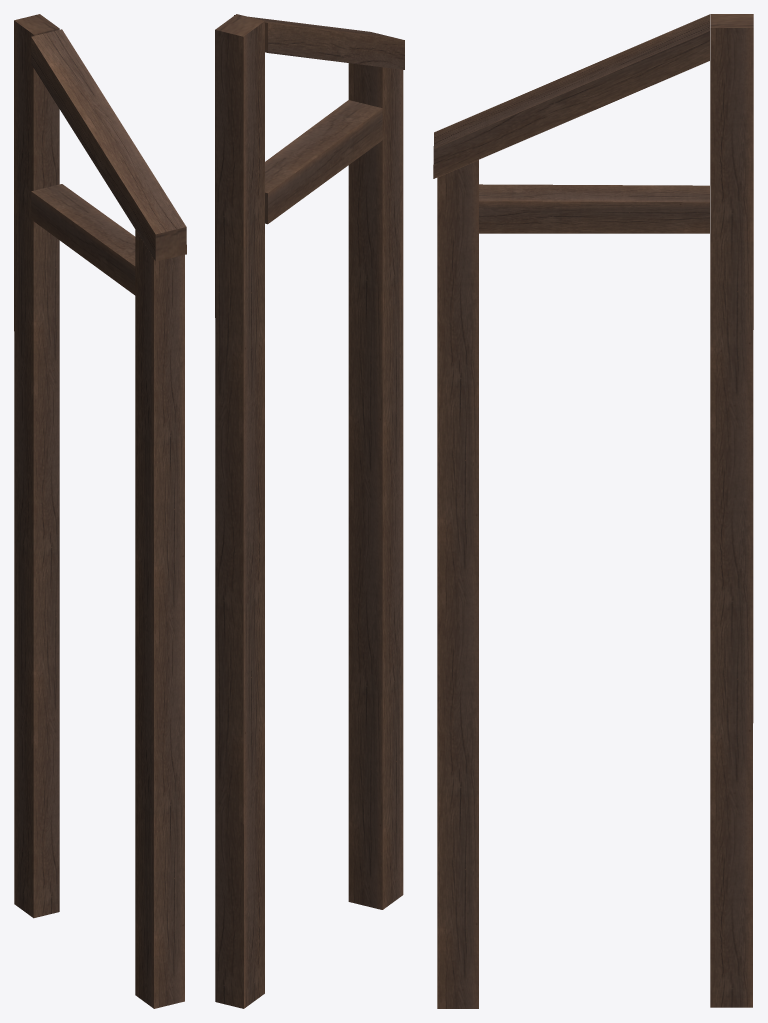
File: yane_frame_1t_0f_4.fbx
The picture shows the model from 3 angles, left to right: view 1: azimuth 30°, elevation 25°; view 2: azimuth 150°, elevation 25°; view 3: azimuth 270°, elevation 25°; orthographic projection. The views are drawn at different scales.
Visible parts, largest first — view 1: yane_frame_1t_0f_4; view 2: yane_frame_1t_0f_4; view 3: yane_frame_1t_0f_4.
Part boxes in pixels (<box>): yane_frame_1t_0f_4: <box>14,14,186,1008</box>; yane_frame_1t_0f_4: <box>215,14,404,1008</box>; yane_frame_1t_0f_4: <box>433,14,753,1008</box>.
Bounding box in the file's own units: 18.18 × 497 × 147.
